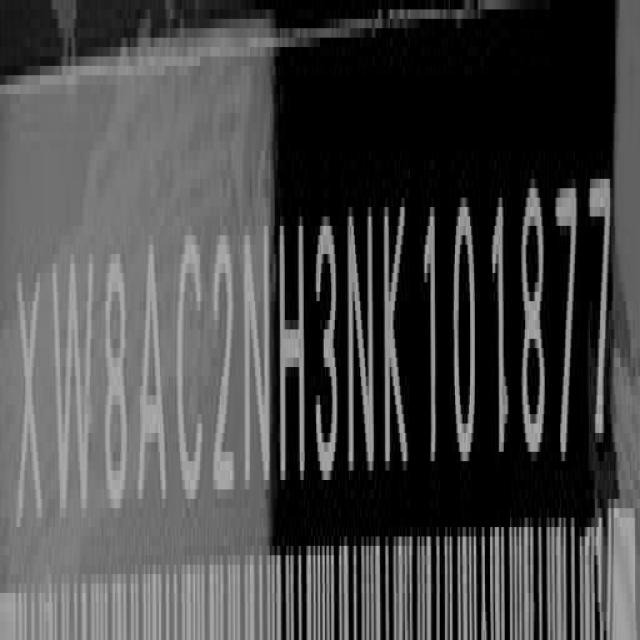0: (453, 185, 480, 476)
1: (421, 182, 442, 485), (488, 181, 508, 467)
2: (211, 220, 239, 512)
3: (315, 203, 340, 492)
7: (589, 162, 613, 470), (556, 178, 579, 467)
8: (522, 180, 549, 473), (105, 246, 130, 522)
A: (136, 235, 166, 514)
C: (178, 220, 207, 511)
H: (280, 208, 307, 498)
K: (383, 192, 412, 492)
N: (348, 190, 378, 494), (244, 210, 274, 505)
W: (53, 241, 96, 532)
X: (15, 260, 46, 543)
